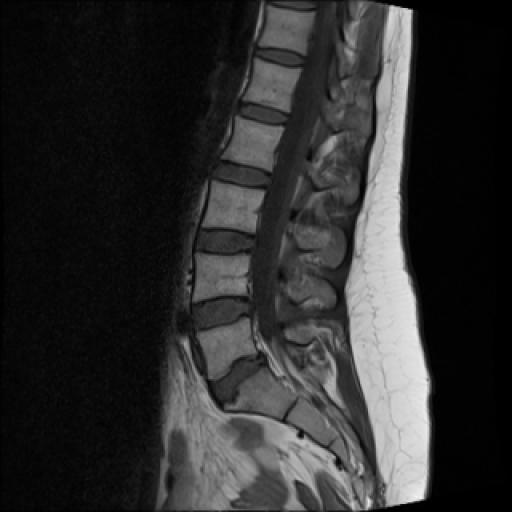L1: (243, 57, 301, 112)
L2: (222, 116, 284, 172)
L3: (202, 180, 265, 234)
L4: (193, 253, 250, 302)
L5: (196, 316, 256, 378)
S1: (224, 366, 296, 420)
